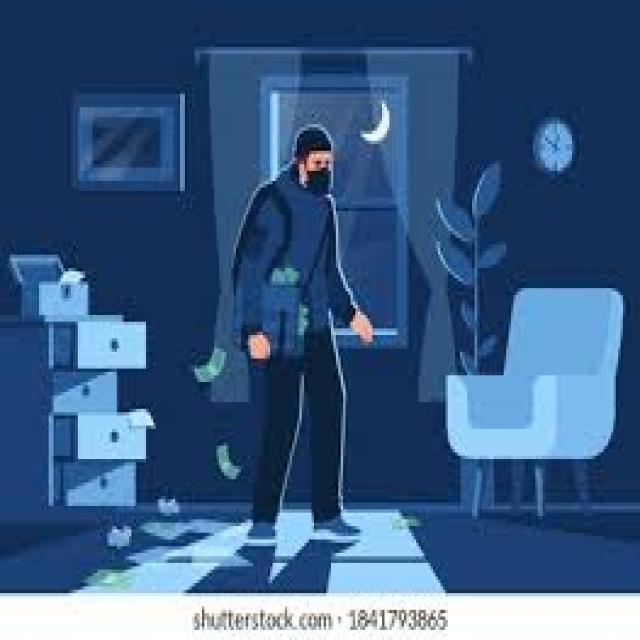intrusion detected: (231, 121, 371, 553)
